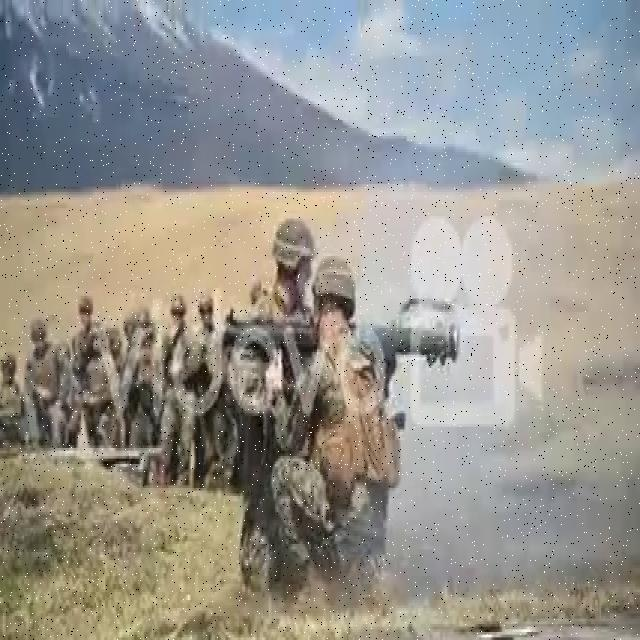bazooka: (216, 301, 464, 381)
